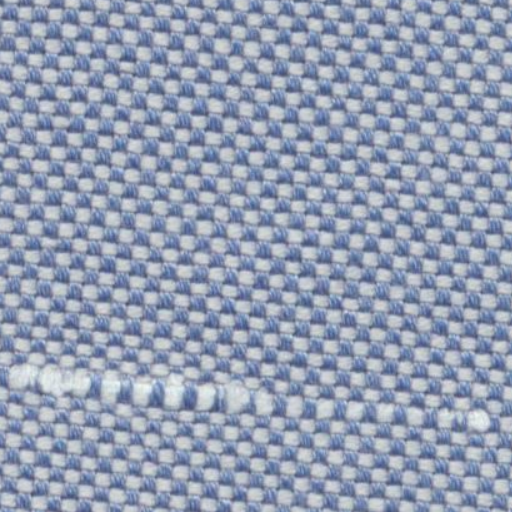DaiSha: (6, 354, 498, 444)
